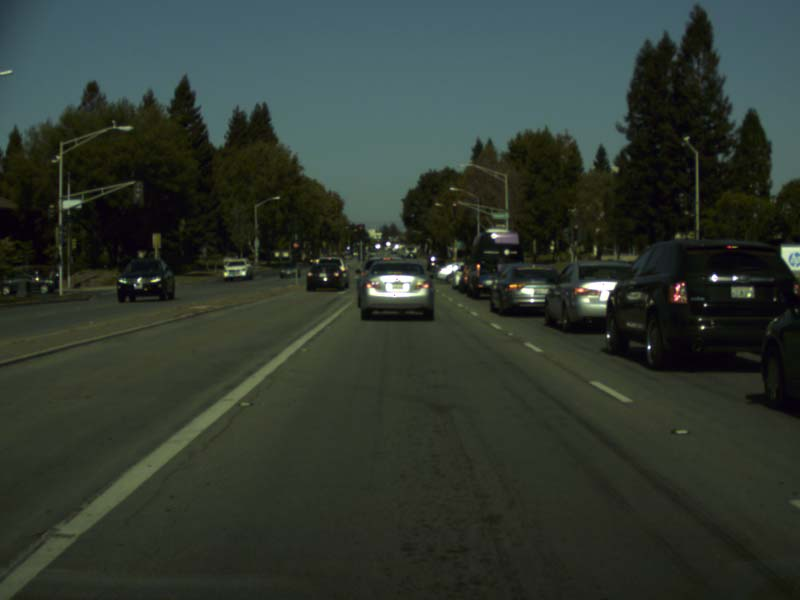Red: (569, 220, 581, 241), (291, 241, 301, 262), (451, 201, 458, 216), (357, 224, 364, 239)
